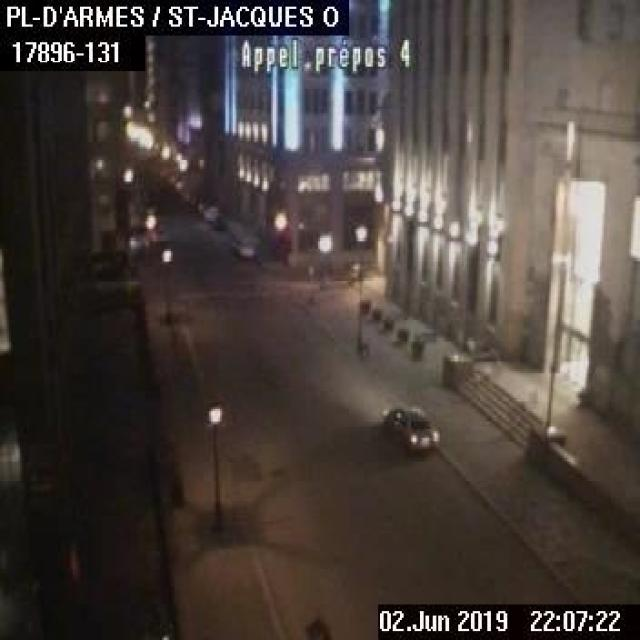vehicle: (382, 404, 437, 452), (230, 236, 252, 256), (211, 213, 225, 229), (202, 204, 217, 218)
